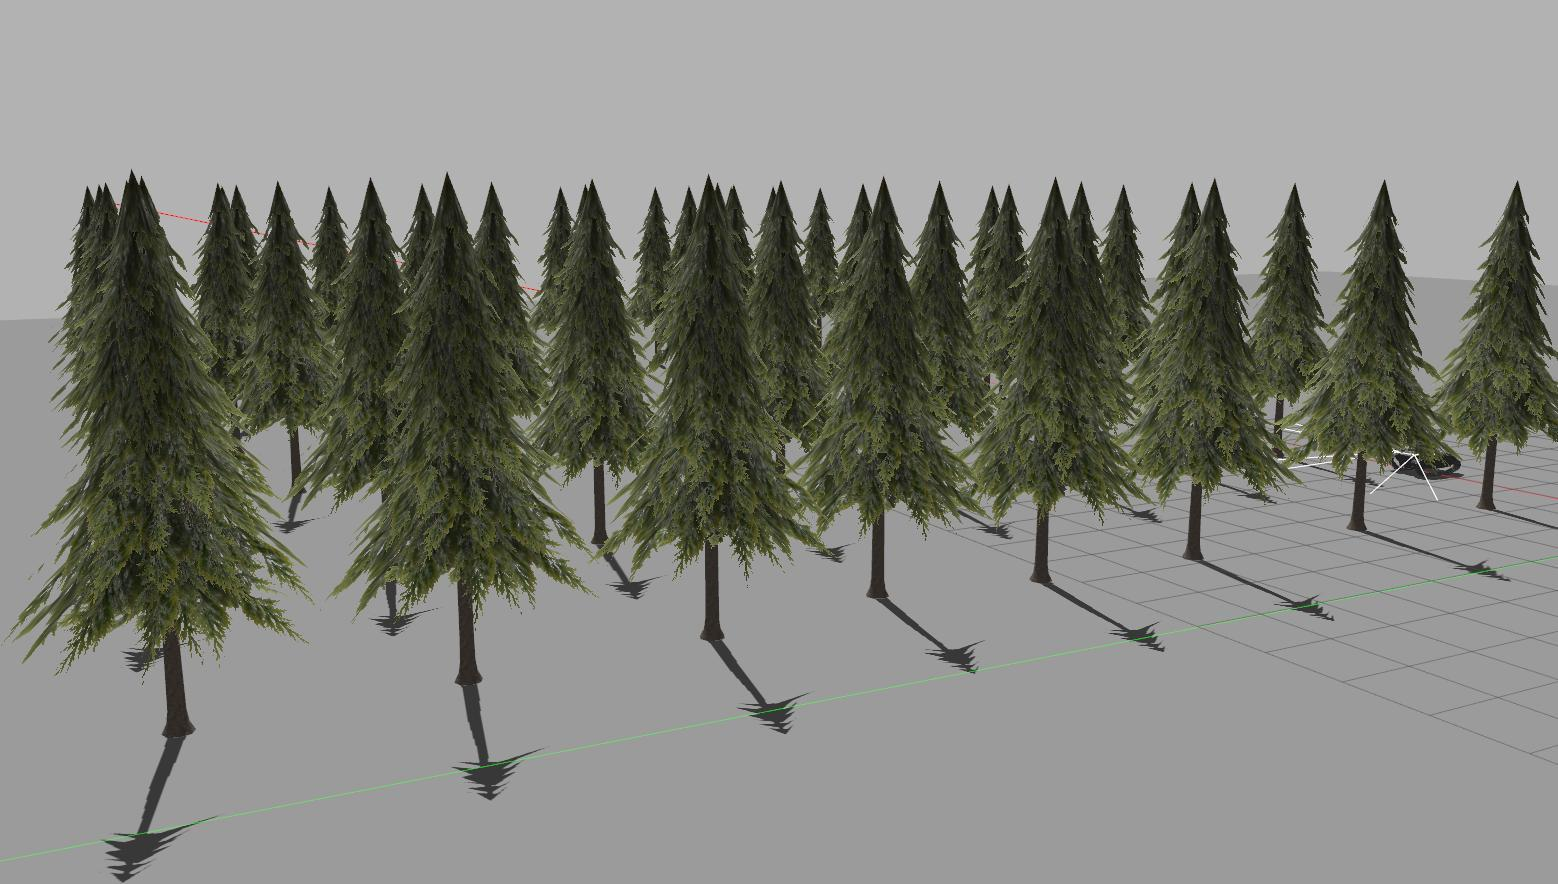tree_gazebo: (15, 173, 302, 736), (338, 180, 581, 685), (612, 180, 819, 642), (804, 180, 971, 599), (974, 183, 1141, 584), (1132, 183, 1290, 560), (1290, 185, 1446, 533), (535, 183, 652, 548), (1436, 183, 1558, 512), (304, 180, 404, 504), (238, 183, 335, 516), (749, 183, 825, 436), (1251, 185, 1327, 437), (910, 185, 986, 432), (475, 185, 545, 417), (192, 185, 249, 396), (1101, 185, 1150, 361), (533, 188, 572, 332), (630, 188, 670, 325), (804, 188, 837, 327)
